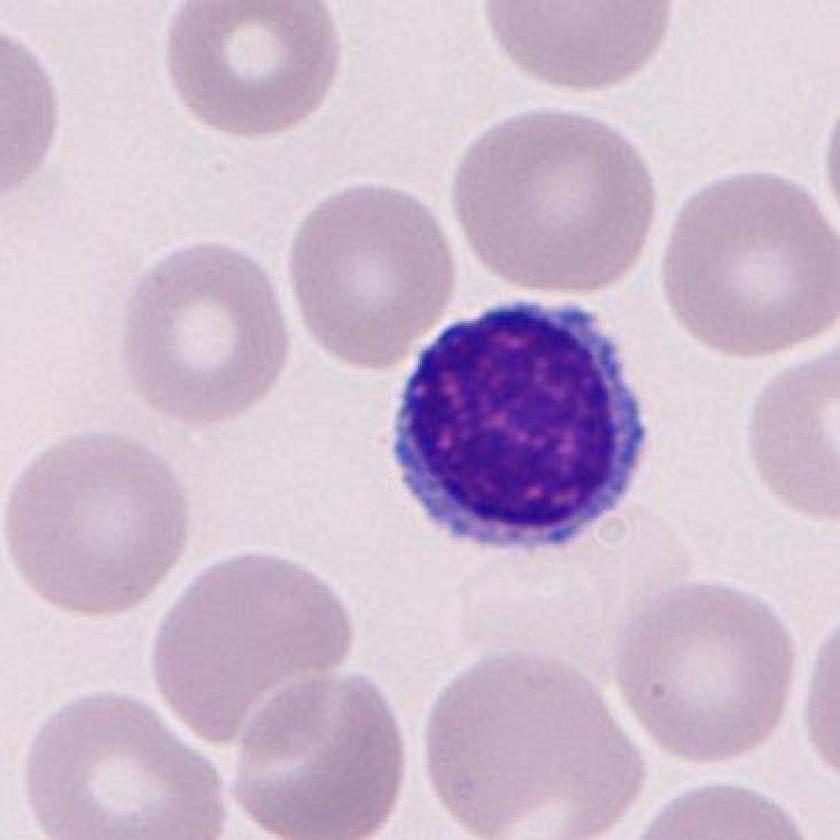lymphocyte: (373, 277, 662, 570)
